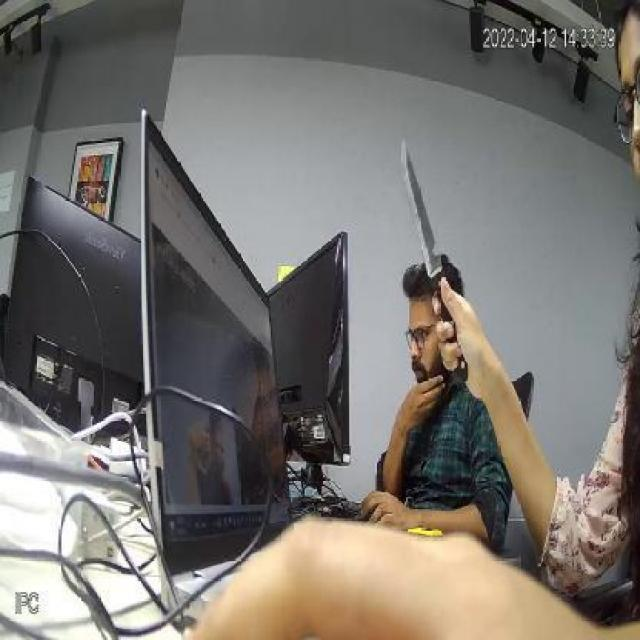-: (397, 135, 449, 300)
